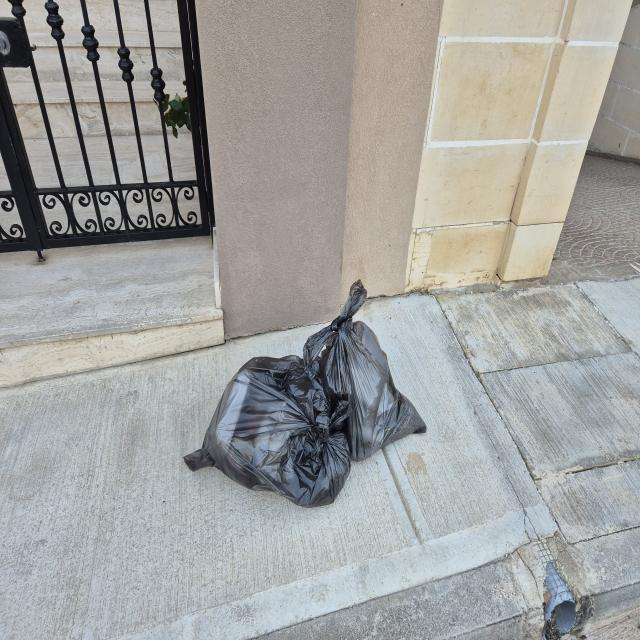black_bag: (188, 330, 343, 492), (294, 281, 422, 464)
